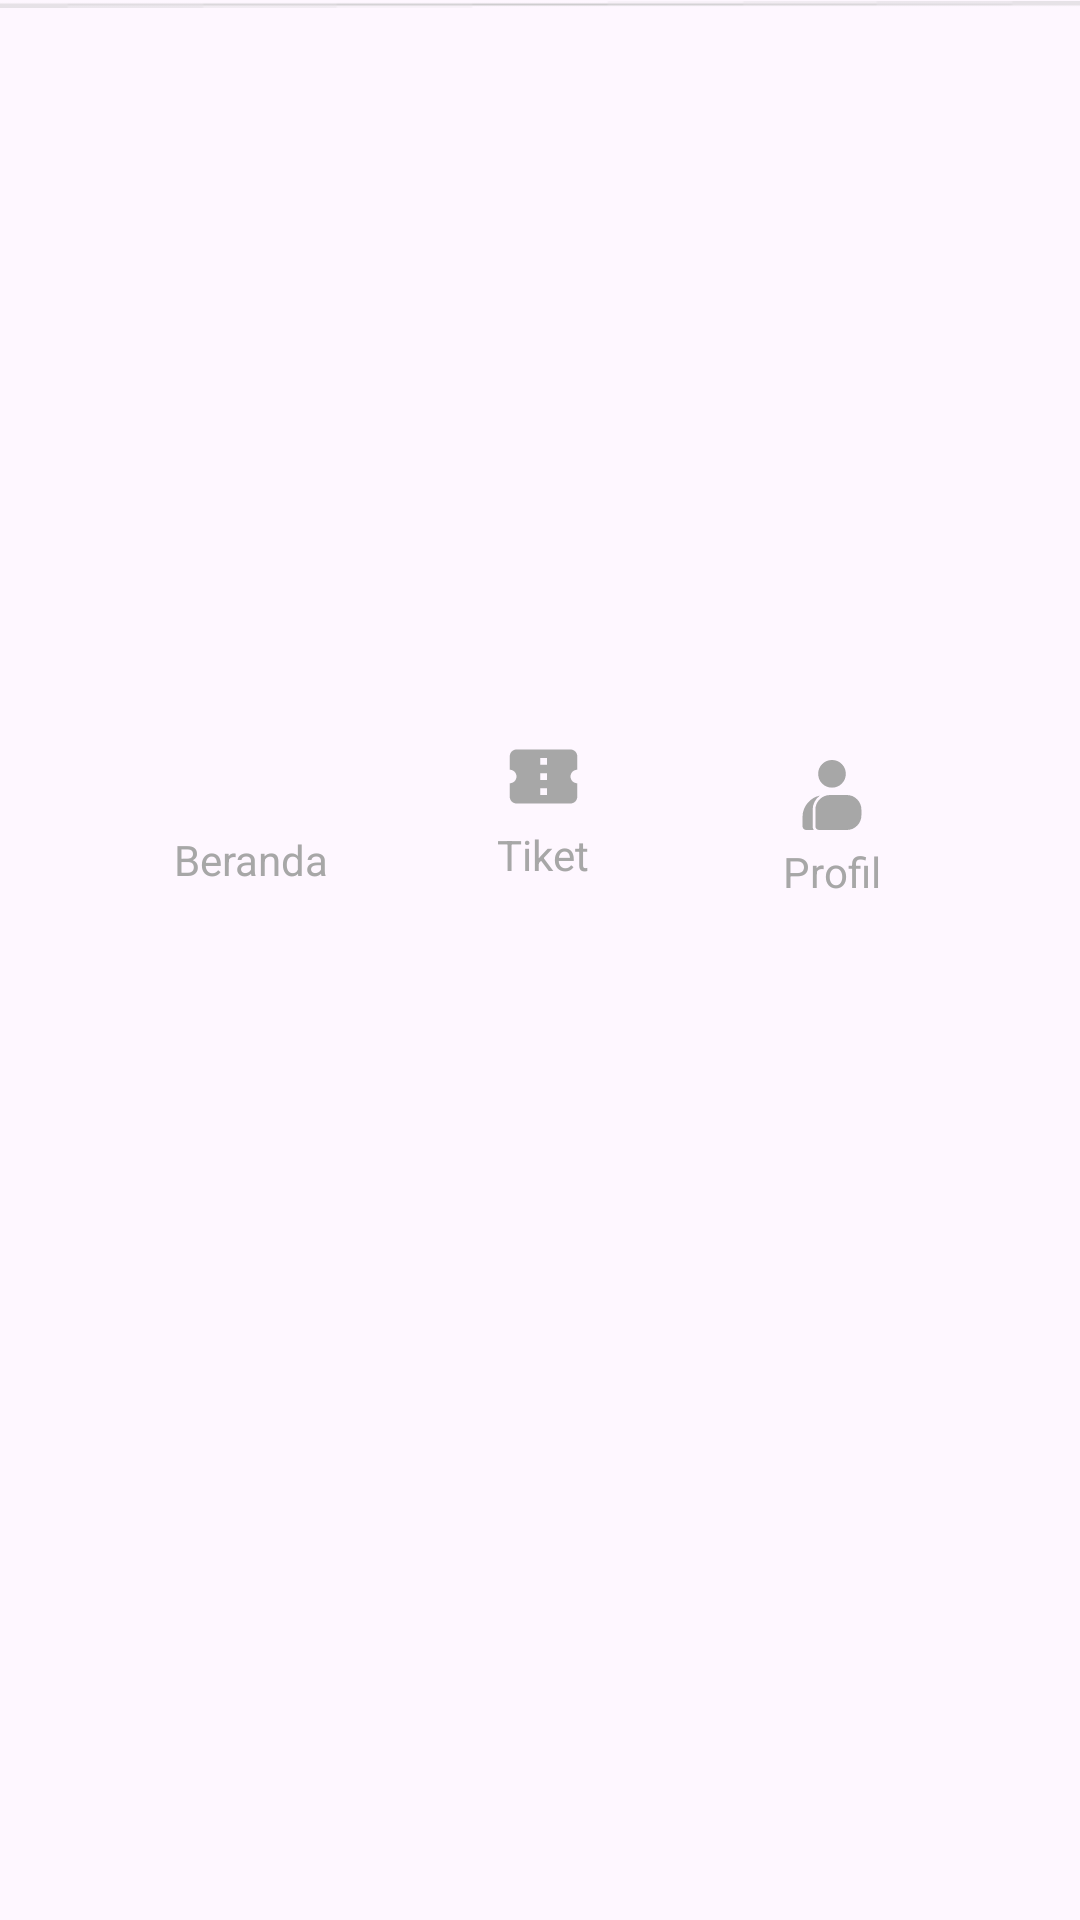

Icon bounding boxes for this 1080×1920 phone screenshot, format (x1, y1, x2, y2):
confirmation number: (510, 749, 577, 804)
contacts product: (802, 760, 862, 830)
